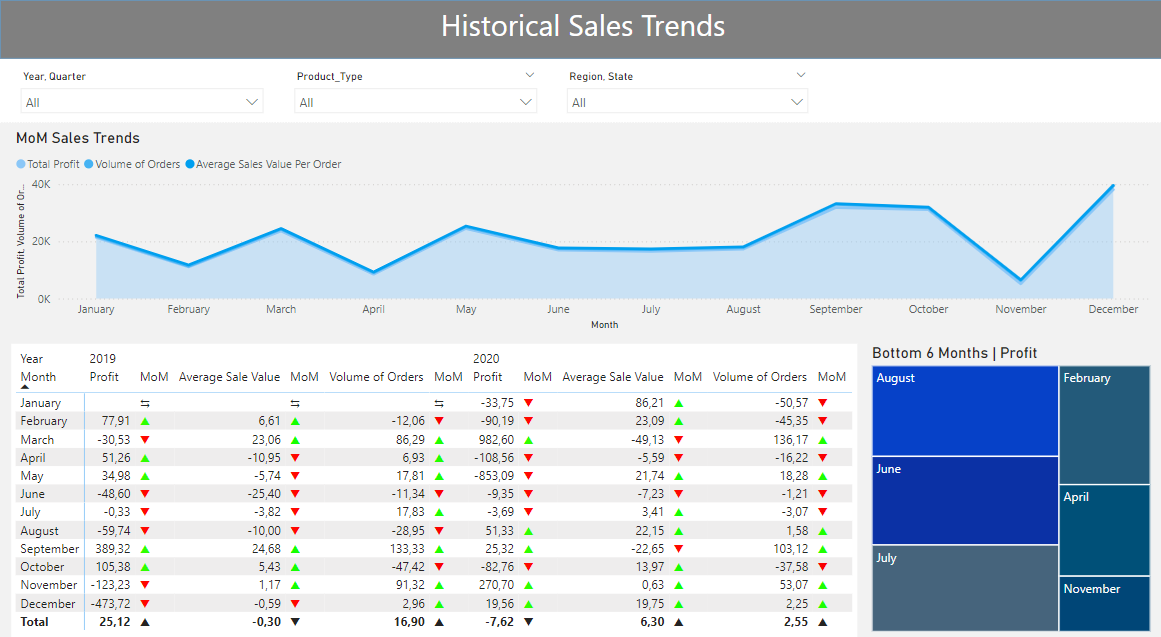

This screenshot's page, from the dashboard's own definition file:
{"tool":"powerbi","page":{"name":"Sales Trends","canvas":[1280,720],"ordinal":1},"visuals":[{"type":"pivotTable","fields":{"Values":["_Measures.TotalProfit_MoM%","_Measures.ArrowMeasure","_Measures.AverageSaleValue_MoM%","_Measures.ArrowMeasure_AVS","_Measures.VolumeofOrders_MoM%","_Measures.ArrowMeasure_VoO"],"Columns":["Dim_Date.Date.Variation.Date Hierarchy.Year"],"Rows":["Dim_Date.Date.Variation.Date Hierarchy.Month"]},"box":[12.3,373.2,937.2,337.6],"z":0},{"type":"areaChart","title":"MoM Sales Trends","fields":{"Category":["Dim_Date.Date.Variation.Date Hierarchy.Year","Dim_Date.Date.Variation.Date Hierarchy.Month"],"Y":["_Measures.Volume of Orders","_Measures.Average Sales Value Per Order"]},"box":[12.3,152.3,1255.6,207.2],"z":1000},{"type":"slicer","fields":{"Values":["Dim_Date.Date.Variation.Date Hierarchy.Year","Dim_Date.Date.Variation.Date Hierarchy.Quarter"]},"box":[981.1,82.3,286.8,54.9],"z":2000},{"type":"slicer","fields":{"Values":["Dim_Product.Product_Type"]},"box":[402.1,82.3,286.8,54.9],"z":3000},{"type":"slicer","fields":{"Values":["Dim_Location.Region","Dim_Location.State"]},"box":[695.7,82.3,285.4,54.9],"z":4000},{"type":"clusteredBarChart","fields":{"Category":["Dim_Date.Date.Variation.Date Hierarchy.Month"],"Y":["_Measures.Total Profit"]},"box":[961.9,373.2,306,336.2],"z":5000},{"type":"image","box":[11,9.6,391.1,124.9],"z":6000},{"type":"shape","box":[415.8,9.6,864.5,52.1],"z":7000},{"type":"textbox","box":[981.1,9.6,299.1,52.1],"z":8000}]}

Visuals, with their boxes in screenshot pixels (x1, y1, x2, y2), scaled from the page's 1280x720 canvas onto the 1161x637 screenshot:
pivotTable - _Measures.TotalProfit_MoM% x _Measures.ArrowMeasure: region(11, 330, 861, 629)
"MoM Sales Trends" areaChart: region(11, 135, 1150, 318)
slicer - Dim_Date.Date.Variation.Date Hierarchy.Year x Dim_Date.Date.Variation.Date Hierarchy.Quarter: region(890, 73, 1150, 121)
slicer - Dim_Product.Product_Type: region(365, 73, 625, 121)
slicer - Dim_Location.Region x Dim_Location.State: region(631, 73, 890, 121)
clusteredBarChart - Dim_Date.Date.Variation.Date Hierarchy.Month x _Measures.Total Profit: region(872, 330, 1150, 628)
image: region(10, 8, 365, 119)
shape: region(377, 8, 1160, 55)
textbox: region(890, 8, 1160, 55)
